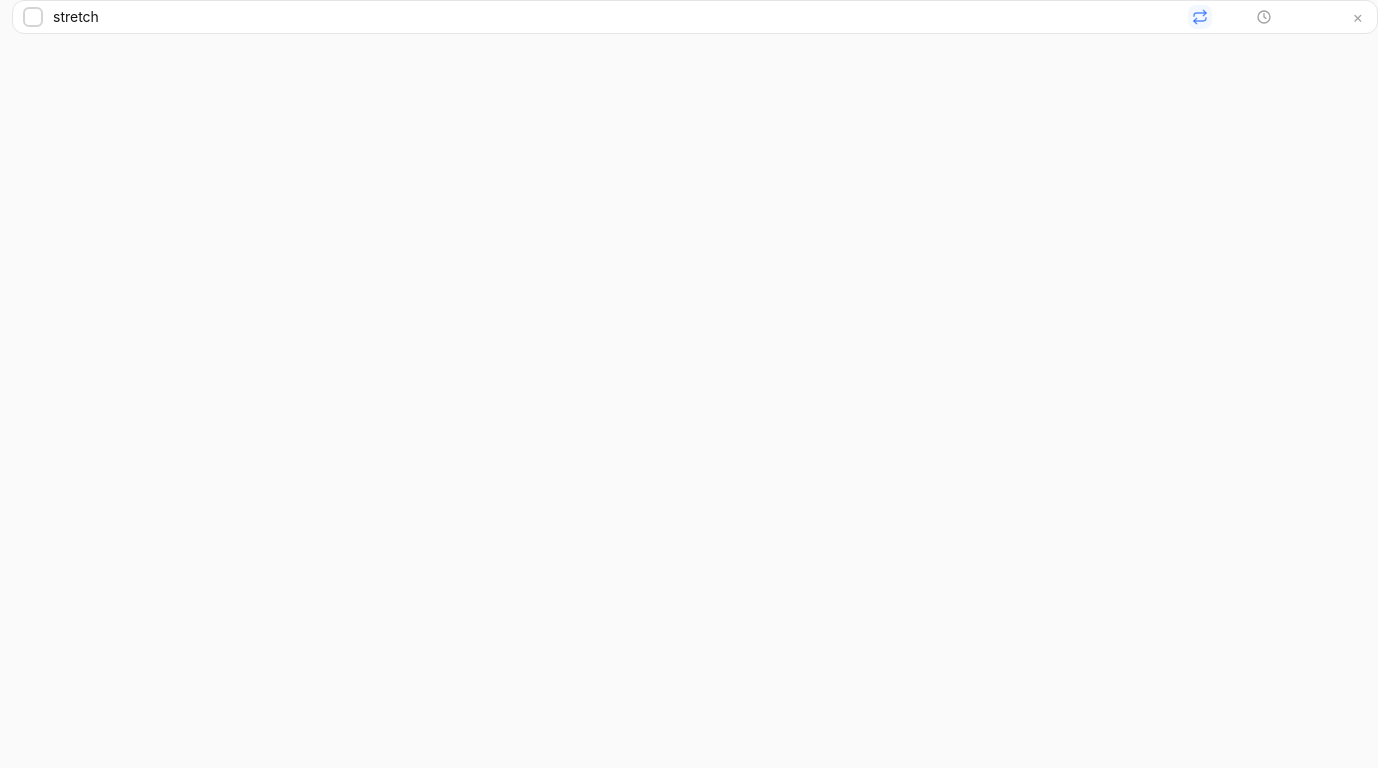
the repeat rule on a task row › stops spelling it out when a click outside rests the row (RPT-17)
The width and height of the screenshot is (1378, 768).
What coordinates should you click on to do the following:
click the list item
I would click on:
 (695, 17)
Its box is left=12, top=0, right=1377, bottom=34.
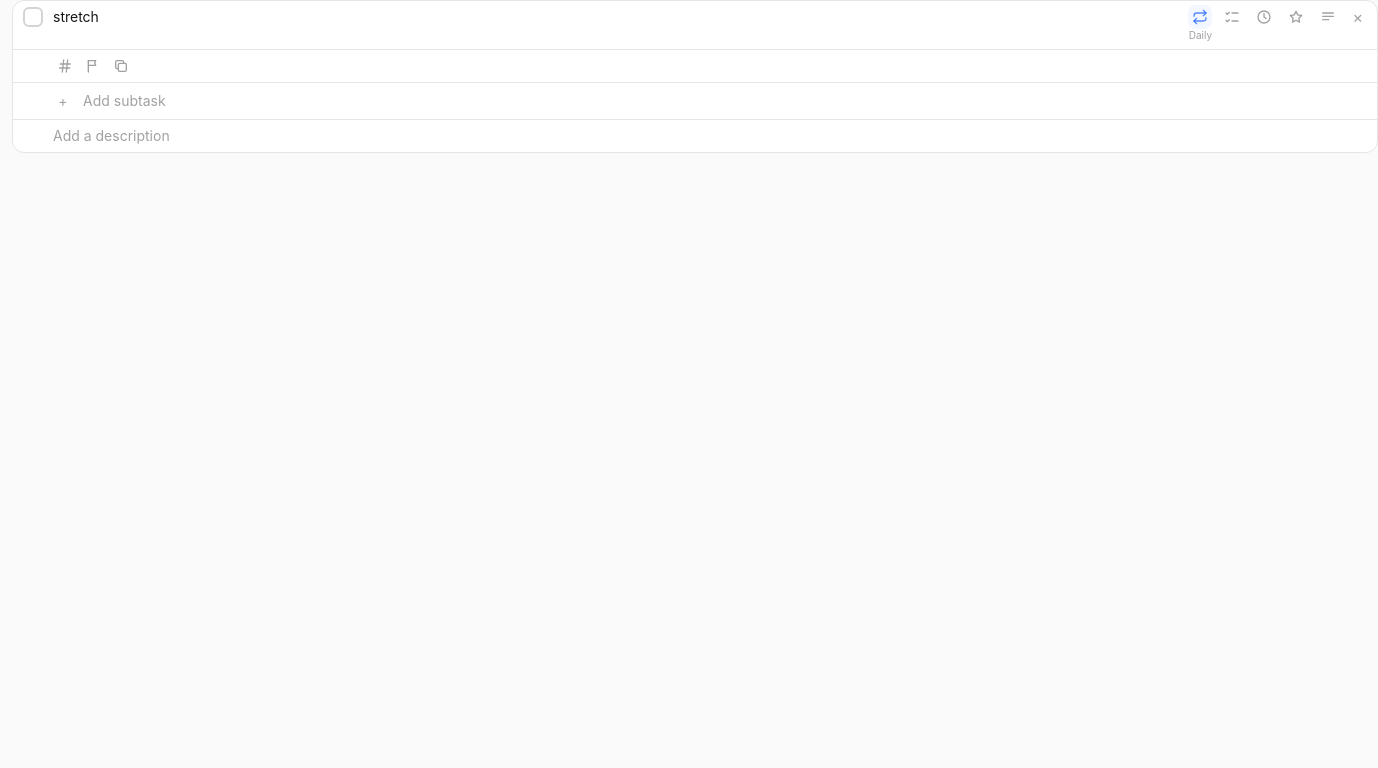
What coordinates should you click on to do the following:
click the element showing "stretch × Daily + Add a description"
I would click on:
 (695, 384)
Its box is left=12, top=0, right=1377, bottom=767.
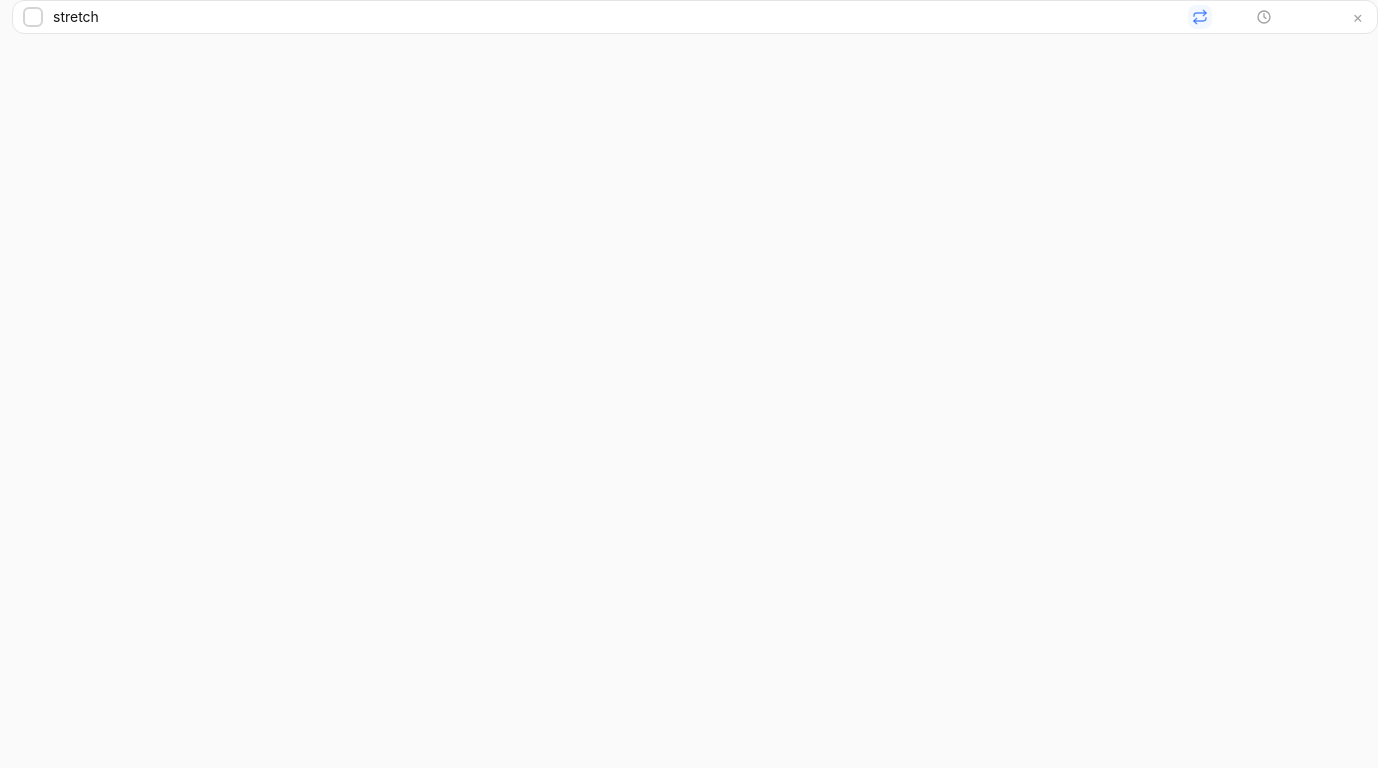
Now the text "Daily" is gone
